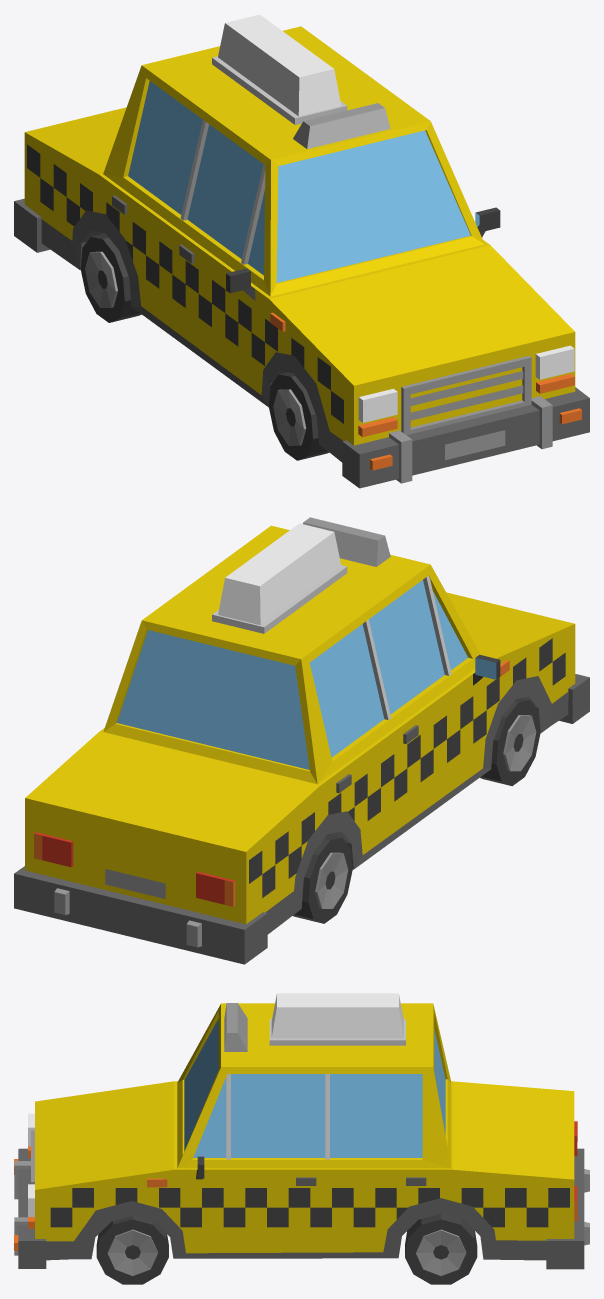
Rendered from Taxi.fbx.
The picture shows the model from 3 angles, top to bottom: view 1: azimuth 30°, elevation 25°; view 2: azimuth 150°, elevation 25°; view 3: azimuth 270°, elevation 25°; orthographic projection. The views are drawn at different scales.
Visible parts, largest first — view 1: Taxi; view 2: Taxi; view 3: Taxi.
Part boxes in pixels (<box>): Taxi: <box>14,14,589,488</box>; Taxi: <box>14,517,589,964</box>; Taxi: <box>14,993,589,1284</box>.
Size of the model in its own units: 0.7389 by 0.7605 by 1.66.
